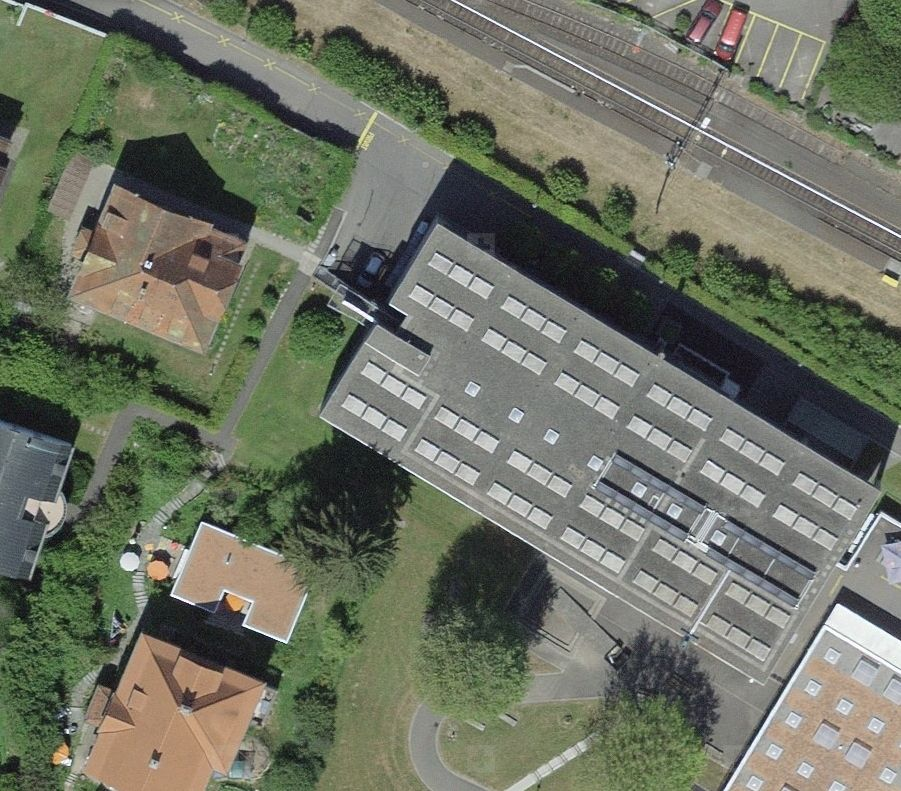solar: (582, 445, 823, 614), (573, 439, 714, 547), (700, 515, 824, 611)
